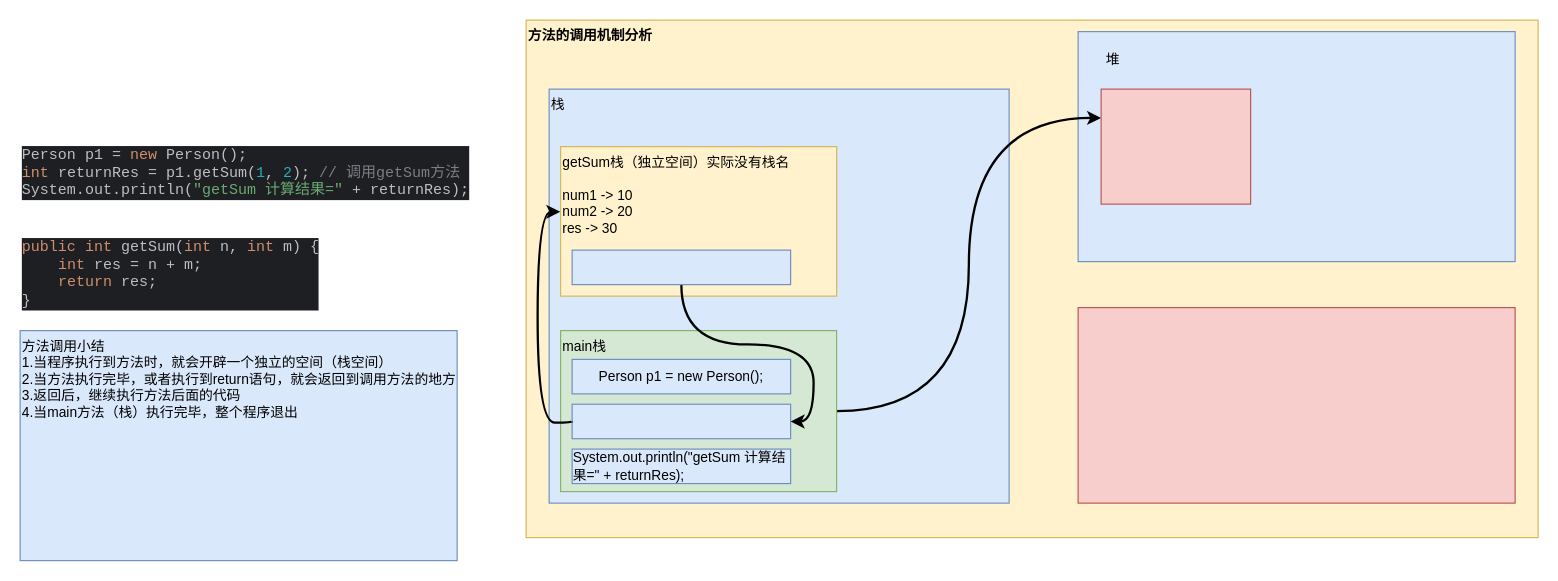
This 1558x581 diagram has some shape labels left out. The centre of each missing label's shape, as x and y in pixels:
int returnRes = p1.getSum(1, 2);: (x=681, y=421)
return res;: (x=681, y=267)
对象: (x=1175, y=146)
方法区: (x=1296, y=404)
